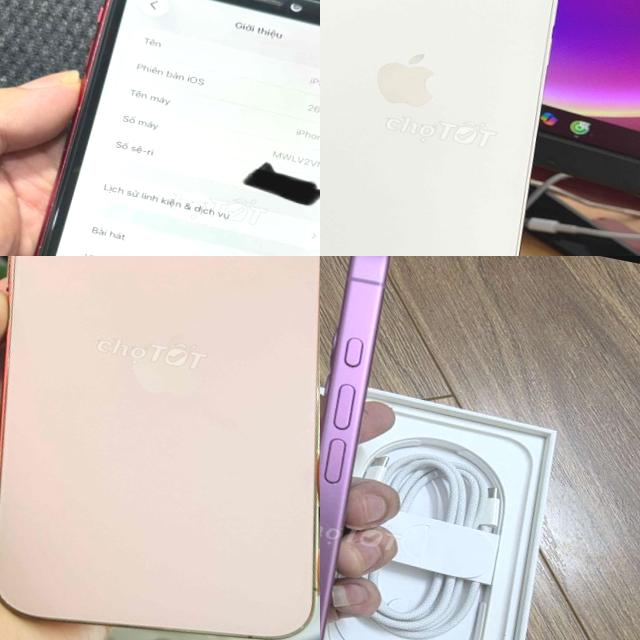gen_11: (39, 0, 320, 256)
gen_12_13: (0, 256, 320, 639), (320, 0, 596, 256)
gen_16: (320, 256, 390, 640)
scratch: (16, 115, 81, 256), (320, 563, 354, 640)
